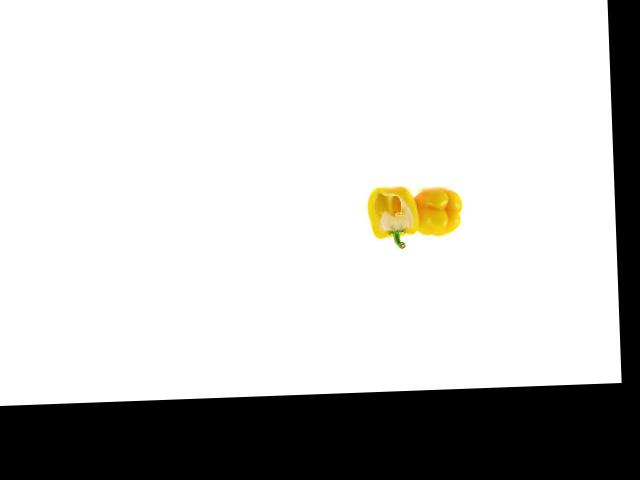bell_pepper: (363, 173, 429, 251)
